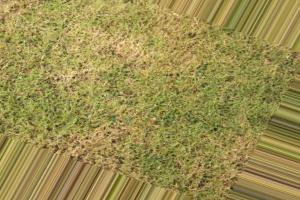patch: (90, 119, 123, 157), (90, 49, 141, 70), (159, 50, 196, 71)
